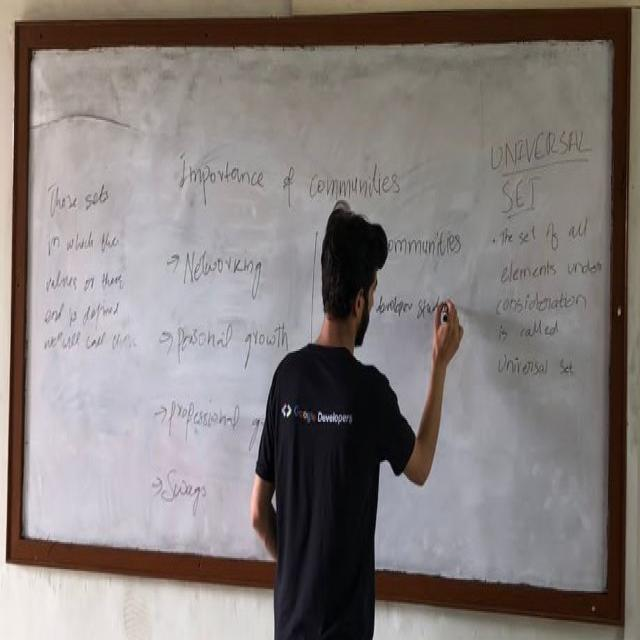Instructor: (258, 191, 409, 640)
White-board: (16, 28, 620, 612)
